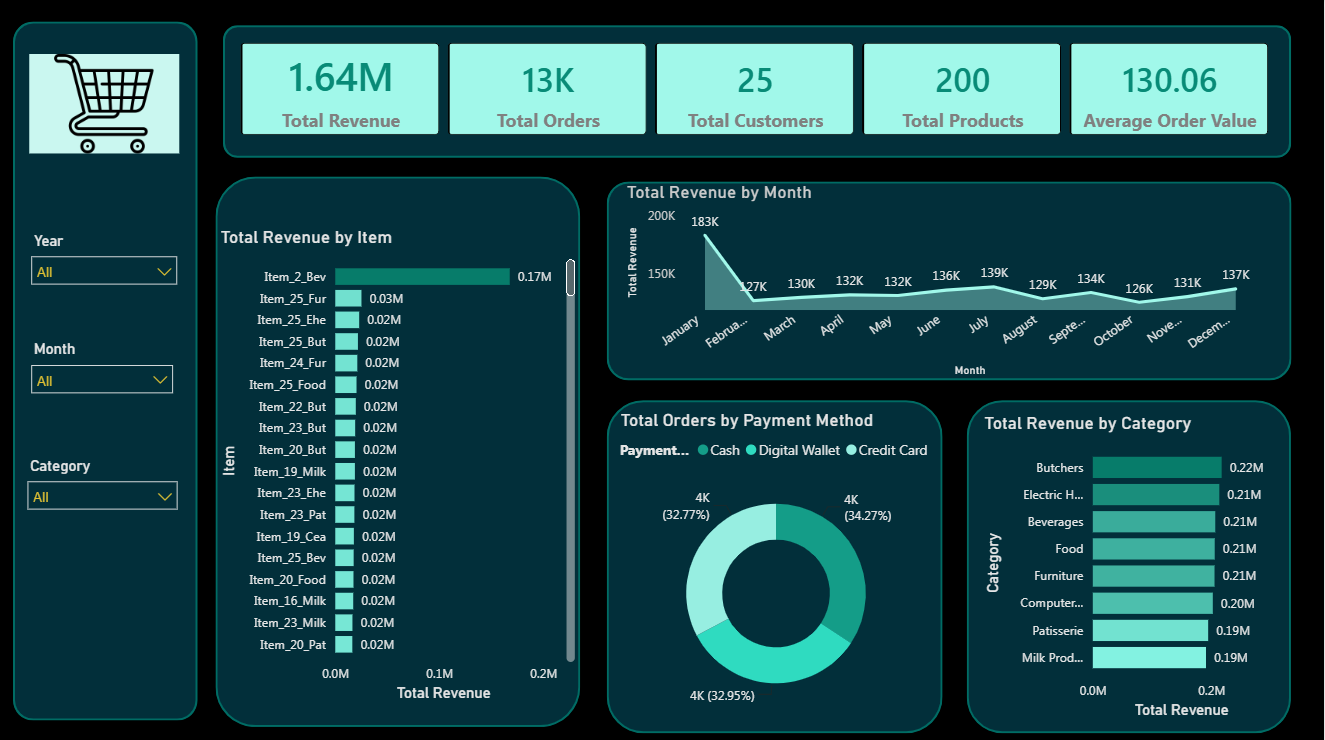

Layout of this report page (visuals, bound fields, positions):
{"tool":"powerbi","page":{"name":"Business Overview","canvas":[1280,720],"ordinal":0},"visuals":[{"type":"shape","box":[217,25,1031,128],"z":0},{"type":"cardVisual","fields":{"Data":["cleaned_retail_sales.Total Revenue","cleaned_retail_sales.Total Orders","cleaned_retail_sales.Total Customers","cleaned_retail_sales.Total Products","cleaned_retail_sales.Average Order Value"]},"box":[217,25,1031,123.8],"z":1000},{"type":"shape","box":[587.1,176.7,660.9,192],"z":2000},{"type":"areaChart","fields":{"Category":["cleaned_retail_sales.Month"],"Y":["cleaned_retail_sales.Total Revenue"]},"box":[602,176.1,616.5,193],"z":3000},{"type":"shape","box":[587.1,386.8,324.2,321.4],"z":4000},{"type":"donutChart","fields":{"Category":["cleaned_retail_sales.Payment Method"],"Y":["cleaned_retail_sales.Total Orders"]},"box":[595.5,395.1,310.3,307.5],"z":5000},{"type":"shape","box":[935,386.8,313,321.4],"z":6000},{"type":"clusteredBarChart","fields":{"Category":["cleaned_retail_sales.Category"],"Y":["cleaned_retail_sales.Total Revenue"]},"box":[947.5,399.3,300.5,300.5],"z":7000},{"type":"shape","box":[210.1,171.1,352,531.5],"z":8000},{"type":"clusteredBarChart","fields":{"Category":["cleaned_retail_sales.Item"],"Y":["cleaned_retail_sales.Total Revenue"]},"box":[210.1,219.8,352,463.3],"z":9000},{"type":"shape","box":[13.9,22.3,178.1,674.8],"z":10000},{"type":"image","box":[30.6,52.9,144.7,96],"z":11000},{"type":"slicer","fields":{"Values":["cleaned_retail_sales.Year"]},"box":[22.3,219.8,161.4,76.5],"z":12000},{"type":"slicer","fields":{"Values":["cleaned_retail_sales.Month"]},"box":[22.3,324.2,157.2,89],"z":13000},{"type":"slicer","fields":{"Values":["cleaned_retail_sales.Category"]},"box":[18.1,436.9,165.6,91.8],"z":14000}]}

Visuals, with their boxes in screenshot pixels (x1, y1, x2, y2), scaled from the page's 1280x720 canvas onto the 1325x740 screenshot:
shape: [left=225, top=26, right=1292, bottom=157]
cardVisual - cleaned_retail_sales.Total Revenue x cleaned_retail_sales.Total Orders: [left=225, top=26, right=1292, bottom=153]
shape: [left=608, top=182, right=1292, bottom=379]
areaChart - cleaned_retail_sales.Month x cleaned_retail_sales.Total Revenue: [left=623, top=181, right=1261, bottom=379]
shape: [left=608, top=398, right=943, bottom=728]
donutChart - cleaned_retail_sales.Payment Method x cleaned_retail_sales.Total Orders: [left=616, top=406, right=938, bottom=722]
shape: [left=968, top=398, right=1292, bottom=728]
clusteredBarChart - cleaned_retail_sales.Category x cleaned_retail_sales.Total Revenue: [left=981, top=410, right=1292, bottom=719]
shape: [left=217, top=176, right=582, bottom=722]
clusteredBarChart - cleaned_retail_sales.Item x cleaned_retail_sales.Total Revenue: [left=217, top=226, right=582, bottom=702]
shape: [left=14, top=23, right=199, bottom=716]
image: [left=32, top=54, right=181, bottom=153]
slicer - cleaned_retail_sales.Year: [left=23, top=226, right=190, bottom=305]
slicer - cleaned_retail_sales.Month: [left=23, top=333, right=186, bottom=425]
slicer - cleaned_retail_sales.Category: [left=19, top=449, right=190, bottom=543]
